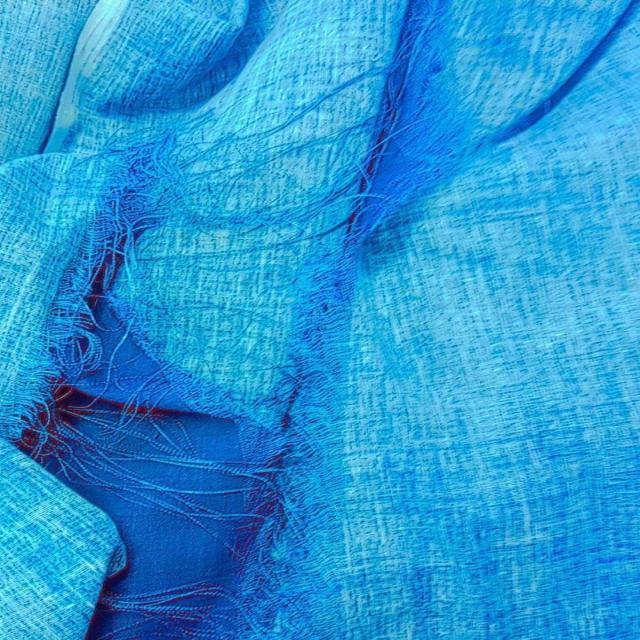cut: (16, 216, 315, 640)
